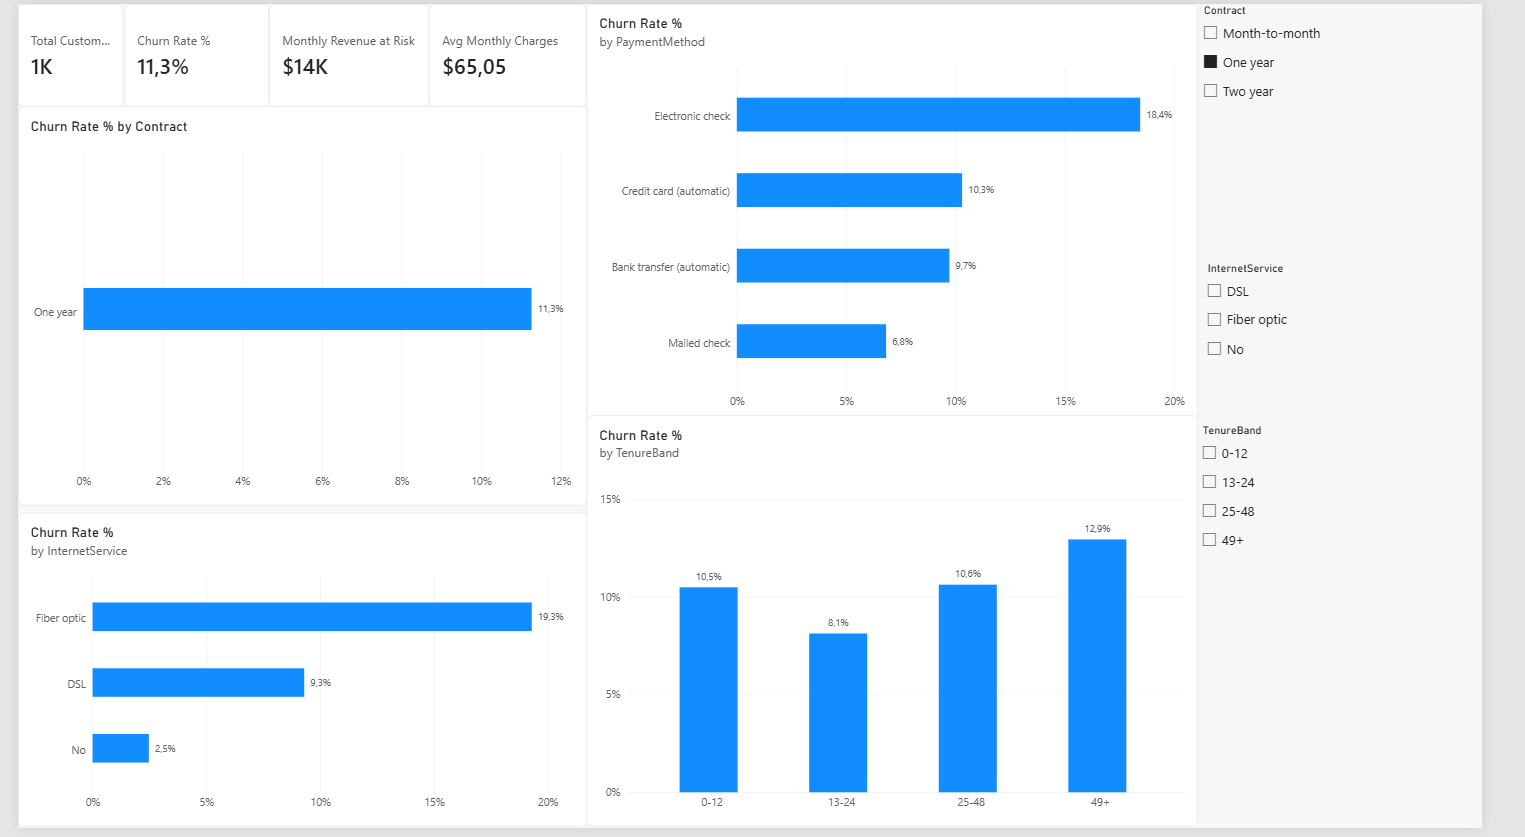

The dashboard page shown, as its layout file describes it:
{"tool":"powerbi","page":{"name":"Page 1","canvas":[1920,1080],"ordinal":0},"visuals":[{"type":"cardVisual","fields":{"Data":["Telco.Avg Monthly Charges"]},"box":[540,0,206.7,135],"z":4},{"type":"cardVisual","fields":{"Data":["Telco.Monthly Revenue at Risk"]},"box":[330,0,210,135],"z":5},{"type":"barChart","title":"Churn Rate % by Contract","fields":{"Category":["Telco.Contract"],"Y":["Telco.Churn Rate %"]},"box":[0,135,746.7,523.3],"z":6},{"type":"barChart","fields":{"Category":["Telco.InternetService"],"Y":["Telco.Churn Rate %"]},"box":[0,668,747,412],"z":7},{"type":"barChart","fields":{"Category":["Telco.PaymentMethod"],"Y":["Telco.Churn Rate %"]},"box":[746.7,0,801.7,553.3],"z":8},{"type":"columnChart","fields":{"Category":["Telco.TenureBand"],"Y":["Telco.Churn Rate %"]},"box":[746.6,539.7,801.7,539.7],"z":9},{"type":"cardVisual","fields":{"Data":["Telco.Total Customers"]},"box":[0,0,138.2,135.3],"z":10},{"type":"cardVisual","fields":{"Data":["Telco.Churn Rate %"]},"box":[138.8,0,190.4,135.3],"z":11},{"type":"slicer","fields":{"Values":["Telco.Contract"]},"box":[1548.3,0,320.7,337.9],"z":12},{"type":"slicer","fields":{"Values":["Telco.InternetService"]},"box":[1551.7,337.9,353.4,308.6],"z":13},{"type":"slicer","fields":{"Values":["Telco.TenureBand"]},"box":[1546.6,550,363.8,260.3],"z":14}]}

Visuals, with their boxes in screenshot pixels (x1, y1, x2, y2), scaled from the page's 1920x1080 canvas onto the 1525x837 screenshot:
cardVisual - Telco.Avg Monthly Charges: detection(429, 0, 593, 105)
cardVisual - Telco.Monthly Revenue at Risk: detection(262, 0, 429, 105)
"Churn Rate % by Contract" barChart: detection(0, 105, 593, 510)
barChart - Telco.InternetService x Telco.Churn Rate %: detection(0, 518, 593, 836)
barChart - Telco.PaymentMethod x Telco.Churn Rate %: detection(593, 0, 1230, 429)
columnChart - Telco.TenureBand x Telco.Churn Rate %: detection(593, 418, 1230, 836)
cardVisual - Telco.Total Customers: detection(0, 0, 110, 105)
cardVisual - Telco.Churn Rate %: detection(110, 0, 261, 105)
slicer - Telco.Contract: detection(1230, 0, 1484, 262)
slicer - Telco.InternetService: detection(1232, 262, 1513, 501)
slicer - Telco.TenureBand: detection(1228, 426, 1517, 628)
